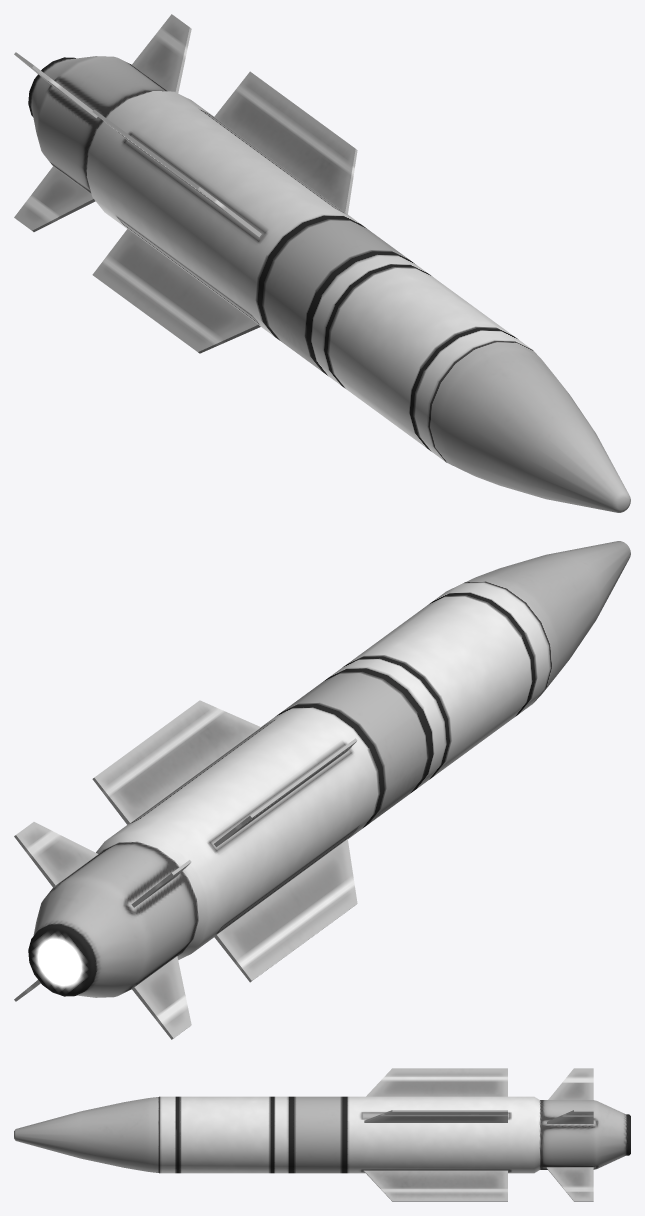
File: SciFiDrone09Missle.FBX
3 views of the same model, one above another, from view 1: azimuth 30°, elevation 25°; view 2: azimuth 150°, elevation 25°; view 3: azimuth 270°, elevation 25° (orthographic). The views are drawn at different scales.
Parts seen in each view (by area): view 1: SciFiDrone09Missle; view 2: SciFiDrone09Missle; view 3: SciFiDrone09Missle.
Part boxes in pixels (x1,y1,x2,y2): SciFiDrone09Missle: (14,14,630,512); SciFiDrone09Missle: (14,541,630,1039); SciFiDrone09Missle: (14,1068,630,1201).
Size of what is drawn, in the model's own units: 0.0848 by 0.0848 by 0.5184.
